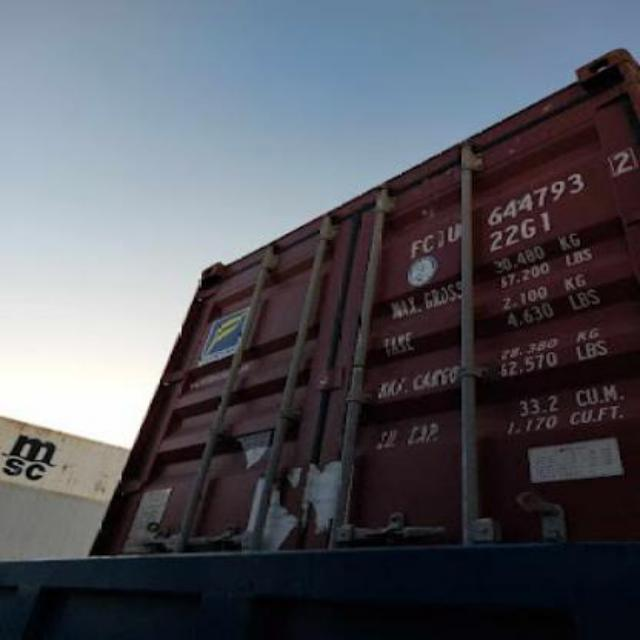2: (610, 153, 632, 171)
3: (566, 172, 584, 194)
4: (518, 193, 534, 211), (502, 199, 516, 217)
6: (484, 206, 500, 224)
7: (532, 186, 550, 208)
9: (552, 182, 566, 200)
C: (422, 235, 434, 253)
F: (408, 239, 420, 257)
I: (438, 229, 446, 249)
U: (446, 225, 462, 241)
